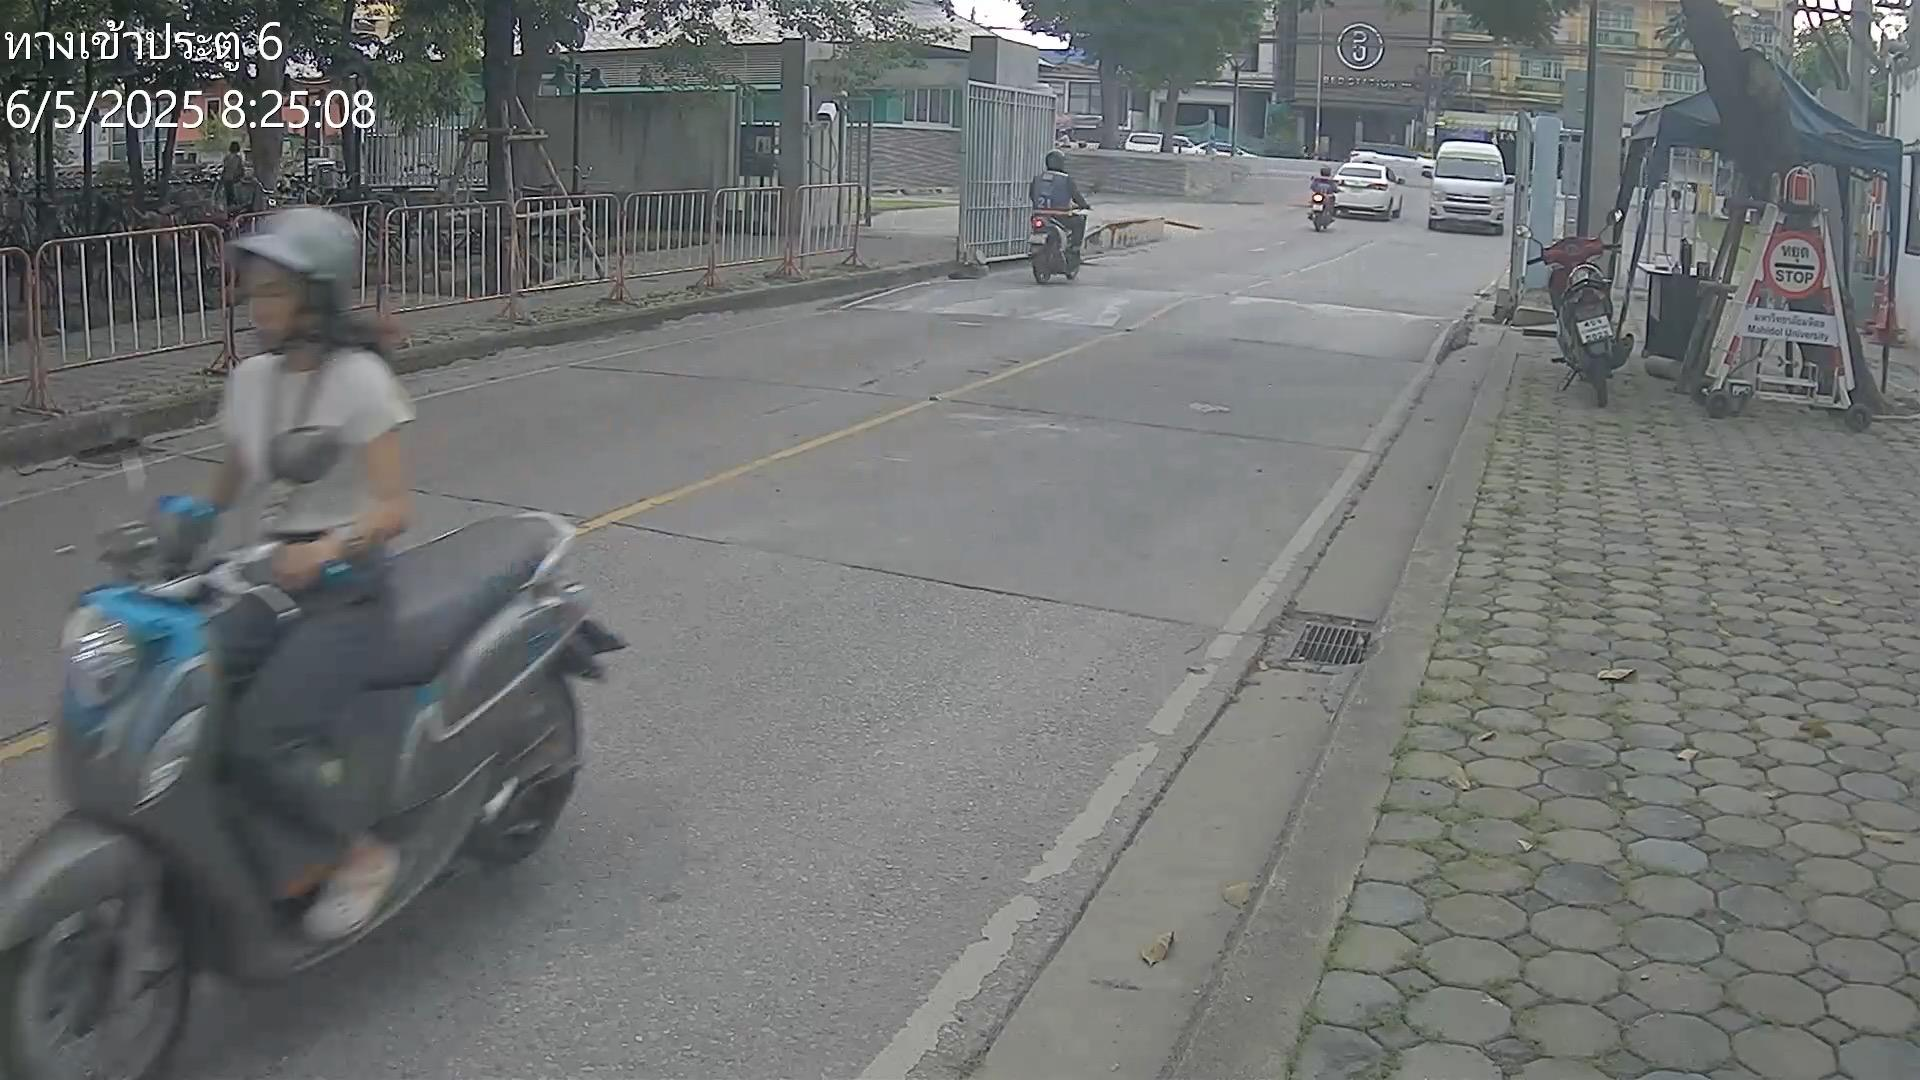With-Helmet: (218, 199, 372, 360), (1044, 149, 1065, 171)
